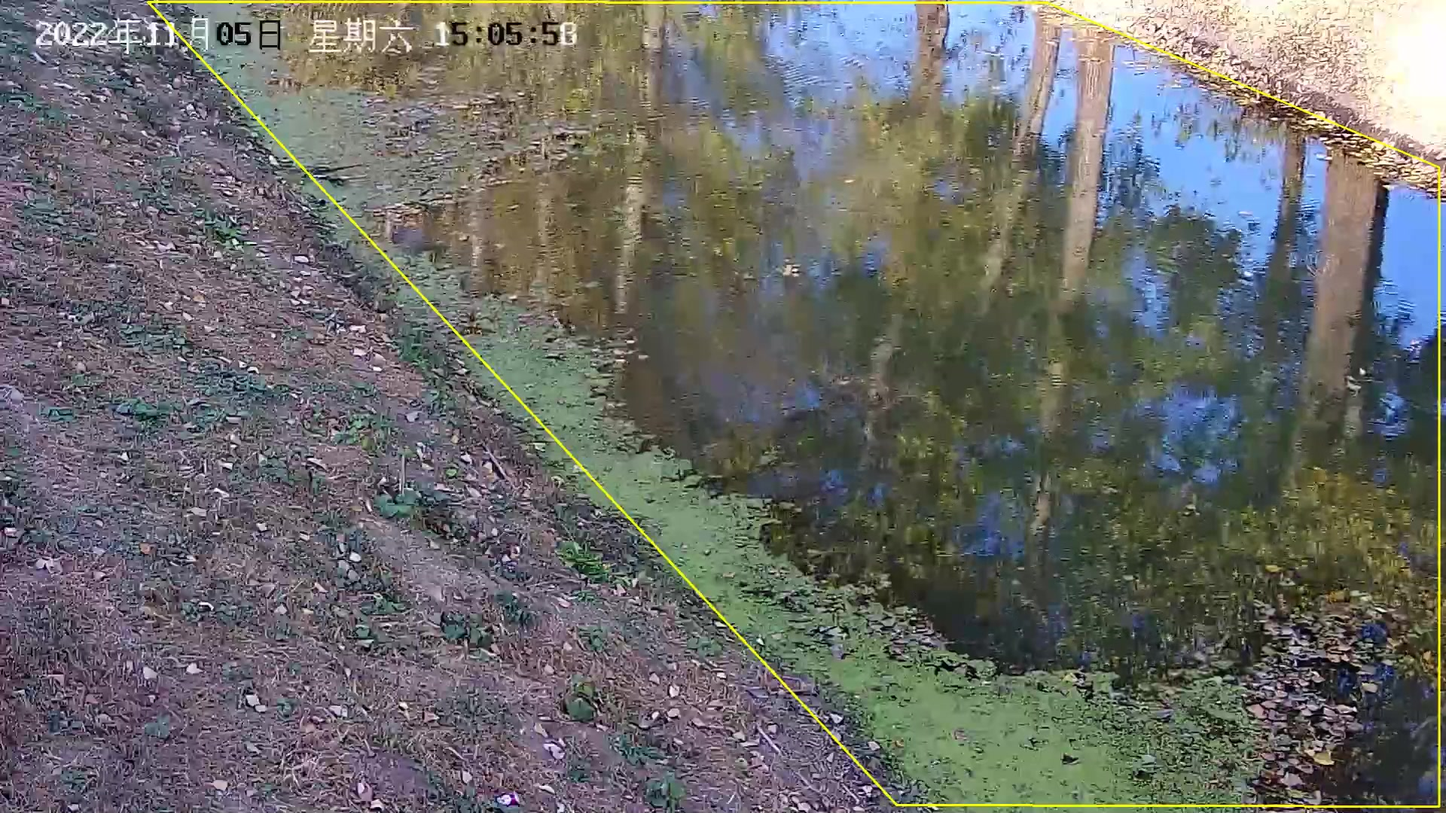floater: (359, 233, 795, 611), (752, 577, 1387, 813), (191, 1, 599, 234)
